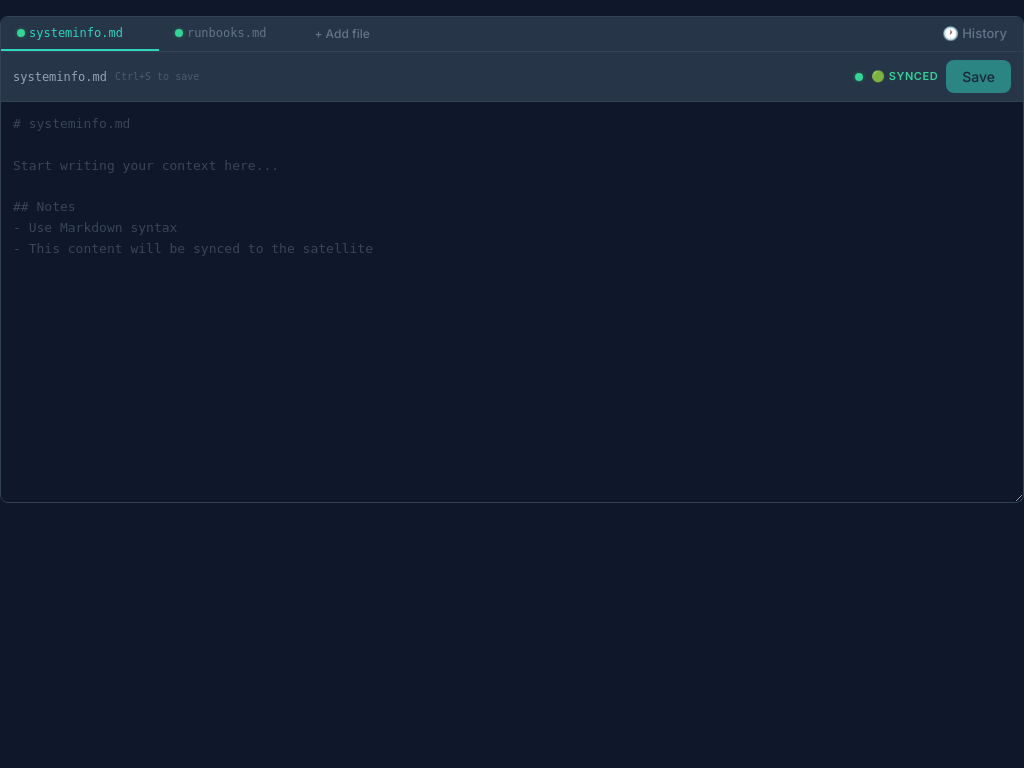
Test: ContextEditor › shows Add File modal on button click
Click the button "+ Add file": [342, 34] box [302,17,382,51]
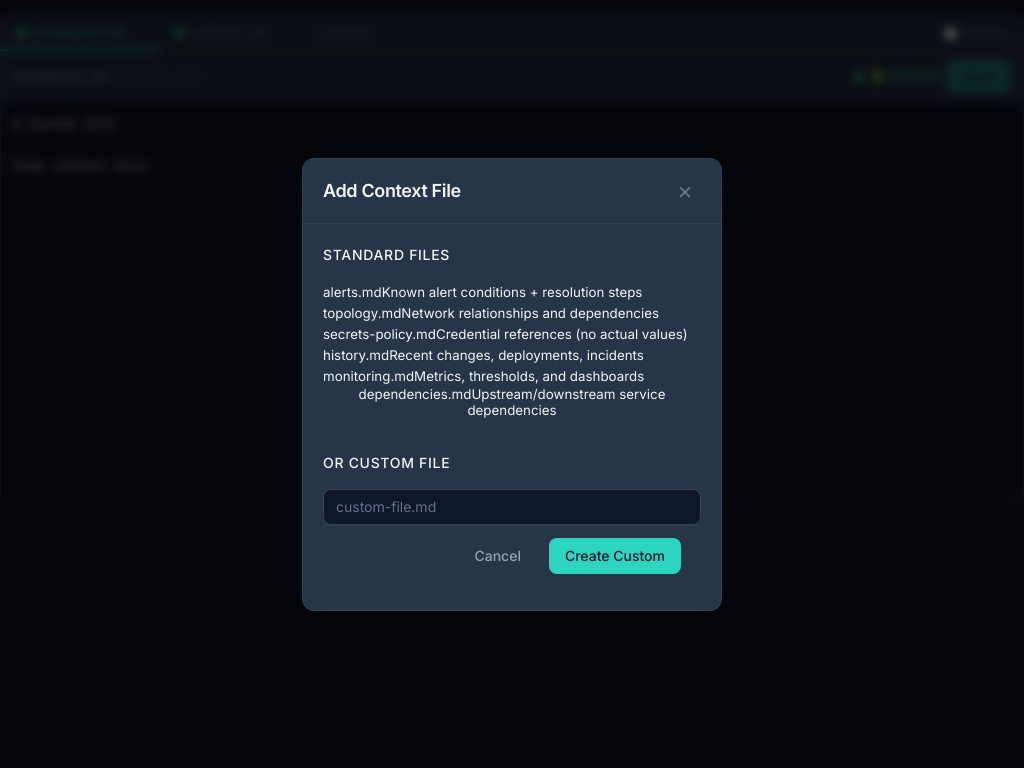
Now the heading "Add Context File" is shown, box [323,180,461,201]
Now the field with placeholder "custom-file.md" is shown, box [323,488,701,524]
